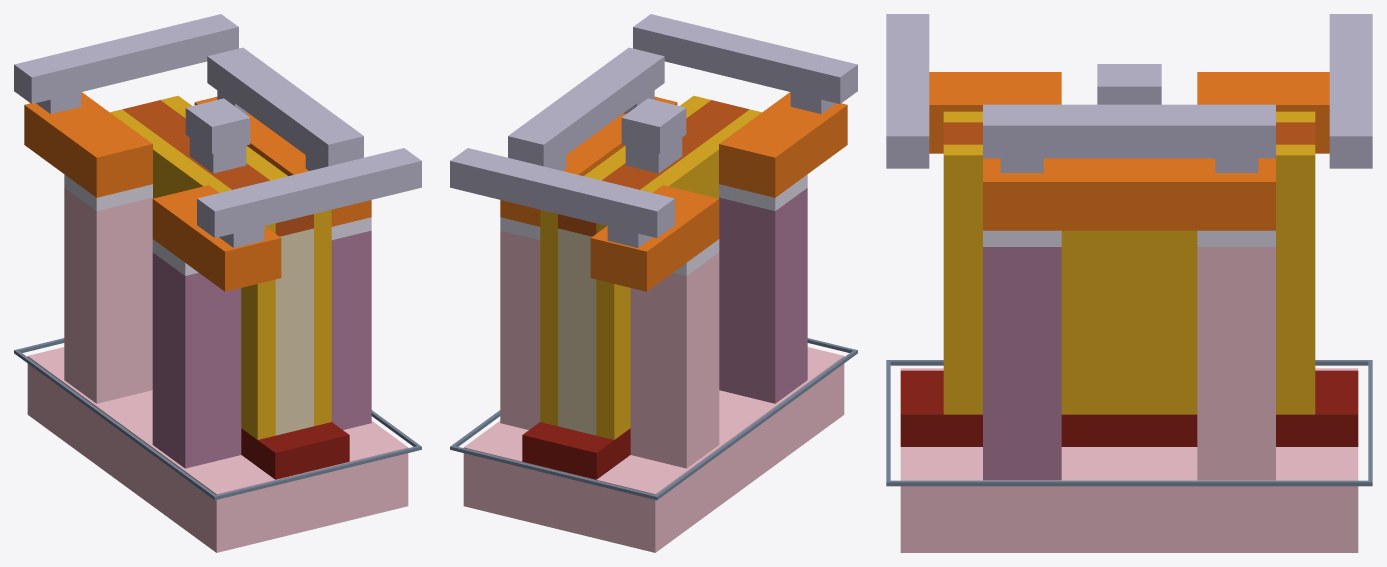
The model's file is inv_ns.obj.
3 views of the same model, side by side, from view 1: azimuth 30°, elevation 25°; view 2: azimuth 150°, elevation 25°; view 3: azimuth 270°, elevation 25° (orthographic). The views are drawn at different scales.
Parts seen in each view (by area): view 1: substrate, n_epi_source, p_epi_source, rail_vdd, rail_gnd, m0_s_n, bar_out, spacer_out_-1, p_epi_drain, mo, m0_s_p, spacer_out_1 (+11 smaller); view 2: substrate, p_epi_source, n_epi_source, rail_gnd, rail_vdd, m0_s_p, bar_out, spacer_out_-1, n_epi_drain, mo, m0_s_n, spacer_out_1 (+11 smaller); view 3: spacer_out_1, substrate, m0_d, p_epi_drain, n_epi_drain, bar_out, sti, rail_vdd, rail_gnd, m0_s_p, m0_s_n, cellbox (+7 smaller).
Part boxes in pixels (left/top/right/bottom): substrate: left=27, top=347, right=408, bottom=552; n_epi_source: left=64, top=188, right=152, bottom=403; p_epi_source: left=152, top=252, right=241, bottom=468; rail_vdd: left=197, top=148, right=421, bottom=237; rail_gnd: left=14, top=14, right=238, bottom=103; m0_s_n: left=24, top=92, right=152, bottom=197; bar_out: left=207, top=47, right=363, bottom=167; spacer_out_-1: left=110, top=109, right=275, bottom=439; p_epi_drain: left=331, top=230, right=371, bottom=429; mo: left=275, top=228, right=313, bottom=435; m0_s_p: left=152, top=185, right=281, bottom=291; spacer_out_1: left=161, top=95, right=331, bottom=426; substrate: left=463, top=347, right=844, bottom=552; p_epi_source: left=719, top=188, right=807, bottom=403; n_epi_source: left=630, top=252, right=719, bottom=468; rail_gnd: left=450, top=148, right=674, bottom=237; rail_vdd: left=633, top=14, right=857, bottom=103; m0_s_p: left=719, top=92, right=847, bottom=197; bar_out: left=508, top=47, right=664, bottom=167; spacer_out_-1: left=596, top=109, right=761, bottom=439; n_epi_drain: left=500, top=230, right=540, bottom=429; mo: left=558, top=228, right=596, bottom=435; m0_s_n: left=590, top=185, right=719, bottom=291; spacer_out_1: left=540, top=95, right=710, bottom=426; spacer_out_1: left=943, top=144, right=1315, bottom=414; substrate: left=900, top=368, right=1358, bottom=552; m0_d: left=983, top=158, right=1275, bottom=230; p_epi_drain: left=983, top=247, right=1061, bottom=480; n_epi_drain: left=1197, top=247, right=1275, bottom=480; bar_out: left=983, top=104, right=1275, bottom=158; sti: left=900, top=370, right=1358, bottom=446; rail_vdd: left=886, top=14, right=929, bottom=168; rail_gnd: left=1329, top=14, right=1372, bottom=168; m0_s_p: left=929, top=72, right=1061, bottom=153; m0_s_n: left=1197, top=72, right=1329, bottom=153; cellbox: left=886, top=360, right=1372, bottom=486.
Bounding box in the file's own units: 81 × 130 × 136.
